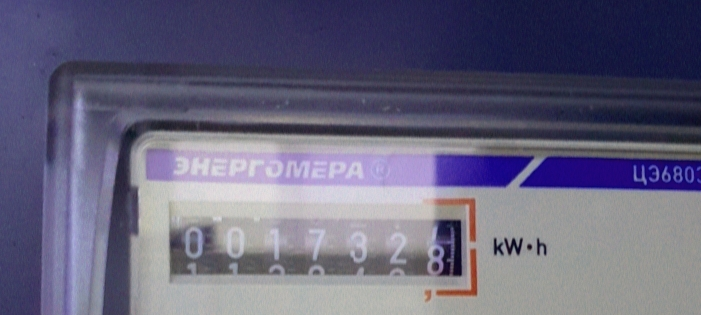0: (184, 223, 206, 260), (226, 225, 246, 259)
1: (269, 225, 283, 261)
2: (387, 231, 408, 267)
3: (348, 229, 370, 265)
7: (305, 225, 329, 263)
8: (425, 242, 445, 277)
screen: (160, 199, 482, 299)
